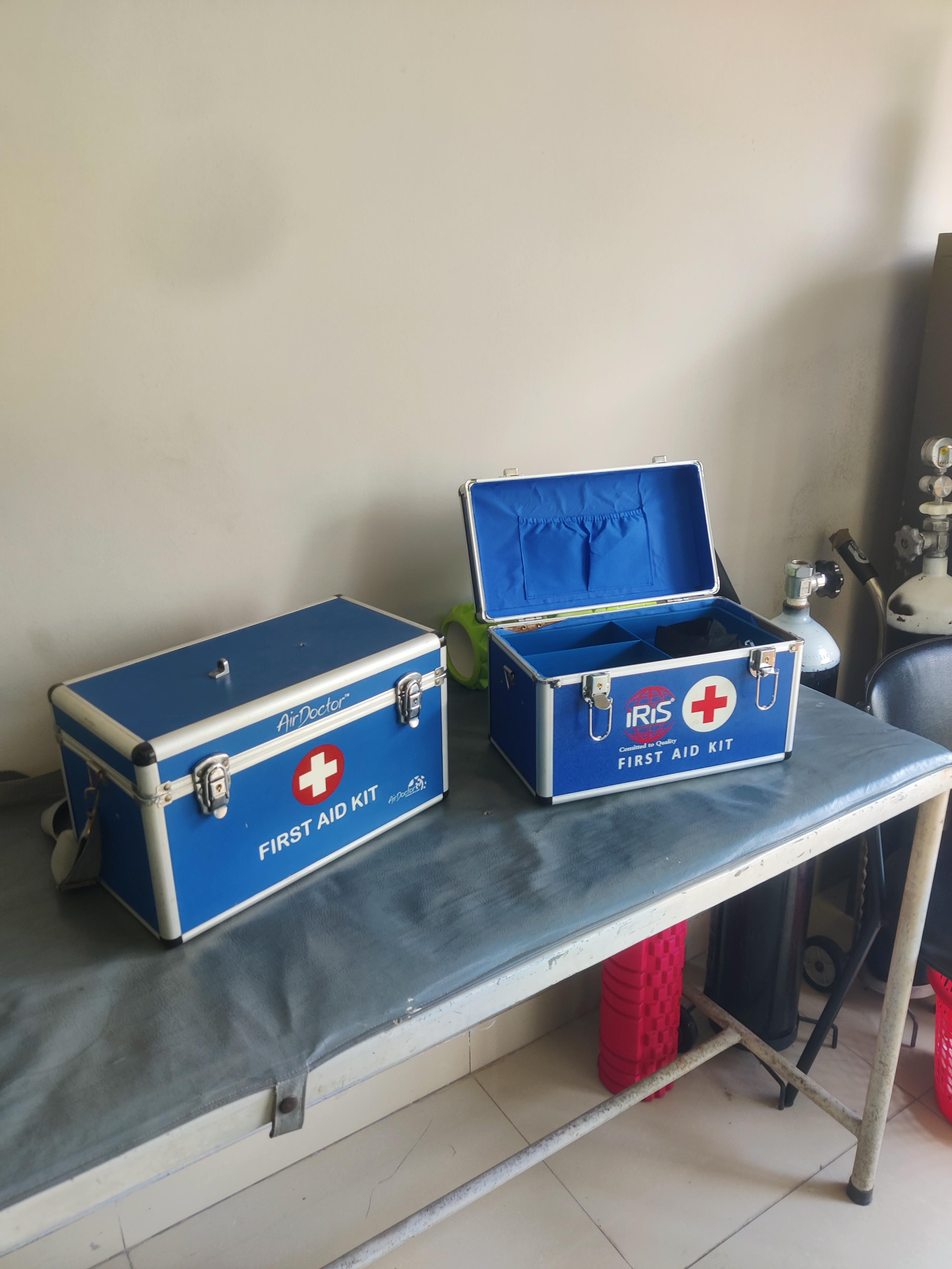FirstAidBox: (32, 582, 455, 994), (455, 463, 845, 816)
